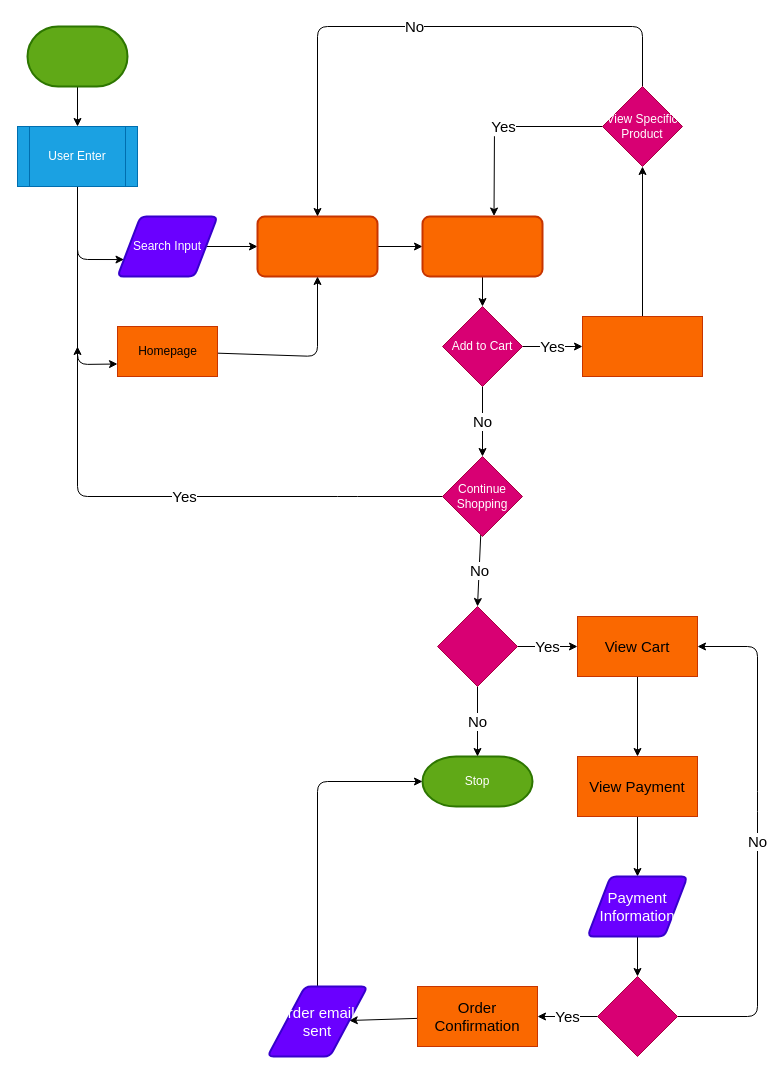
Image size: 784x1074. Some labels were removed from this diagram. The shapes that lost their labels are listed below. From the top down, each one's box as (x1, y1, x2, y2) in pixels, then its label:
(26, 25, 128, 87): Start
(256, 215, 378, 277): product view
(421, 215, 543, 277): Specific Product
(582, 316, 702, 376): Added to Cart Confirmation
(436, 606, 518, 686): Checkout
(596, 976, 678, 1056): Payment Success
